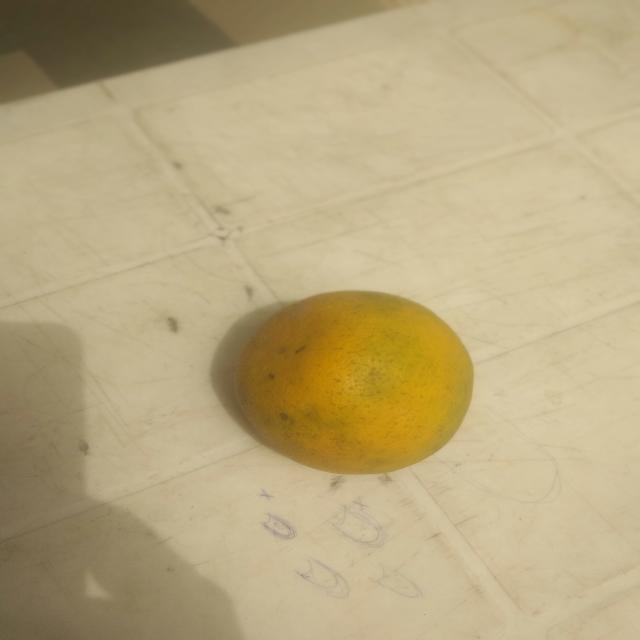Ripe orange: (220, 273, 486, 498)
